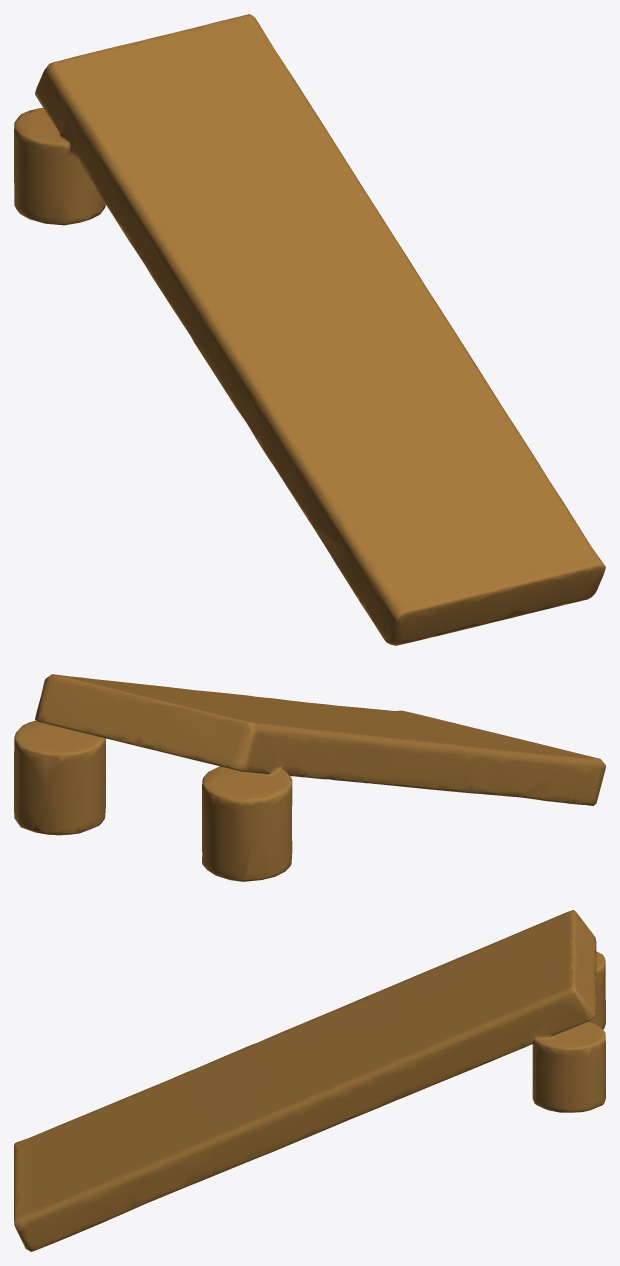
File: gen3d-ramp-lod0.glb
3 views of the same model, one above another, from view 1: azimuth 30°, elevation 25°; view 2: azimuth 150°, elevation 25°; view 3: azimuth 270°, elevation 25° (orthographic). The views are drawn at different scales.
Parts seen in each view (by area): view 1: part_0; view 2: part_0; view 3: part_0.
Boxes of the visible parts, x1,y1,x2,y2 form: part_0: (14,14,605,645); part_0: (14,674,605,881); part_0: (14,910,605,1251).
Bounding box in the file's own units: 0.8359 × 1 × 2.02.
